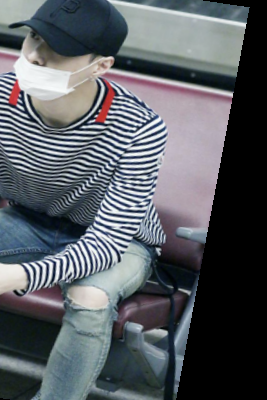mask_weared_incorrect: (4, 1, 132, 103)
